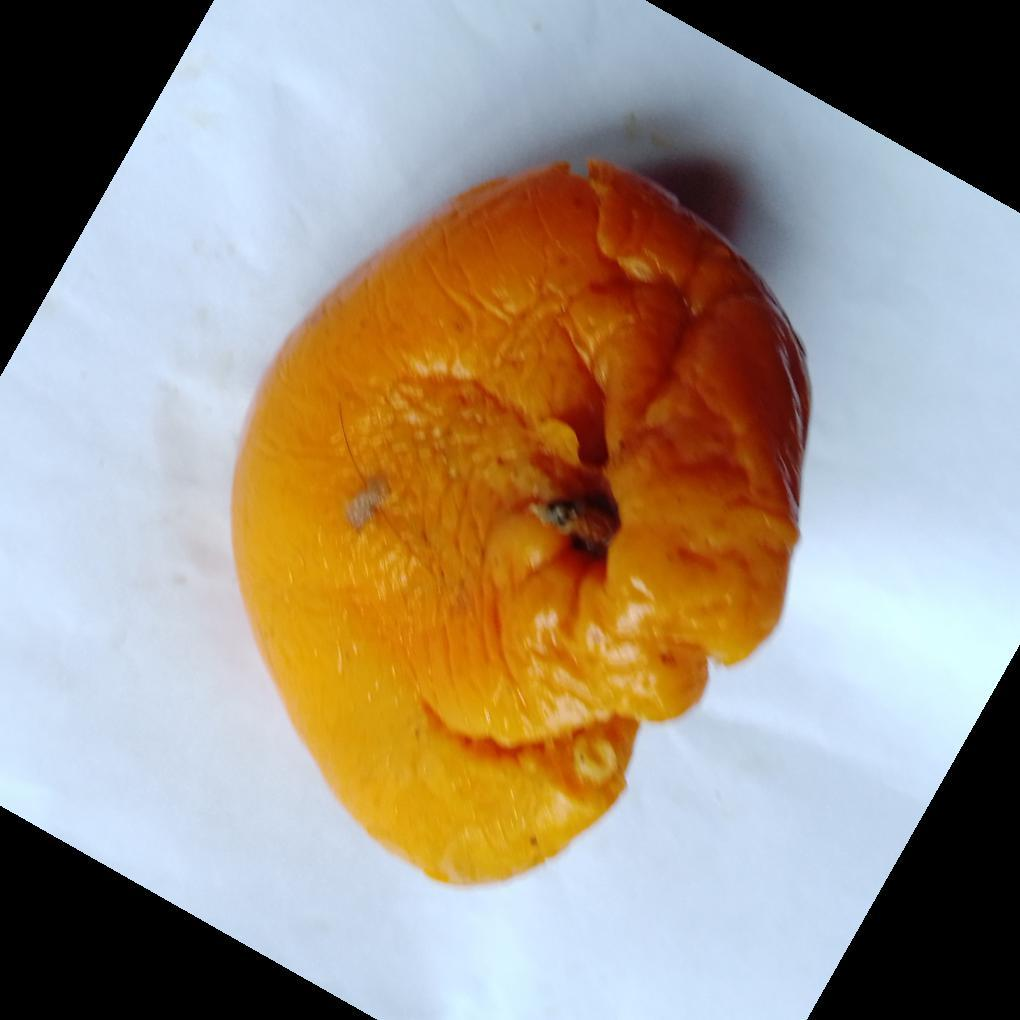FreshOrange: (226, 161, 812, 893)
